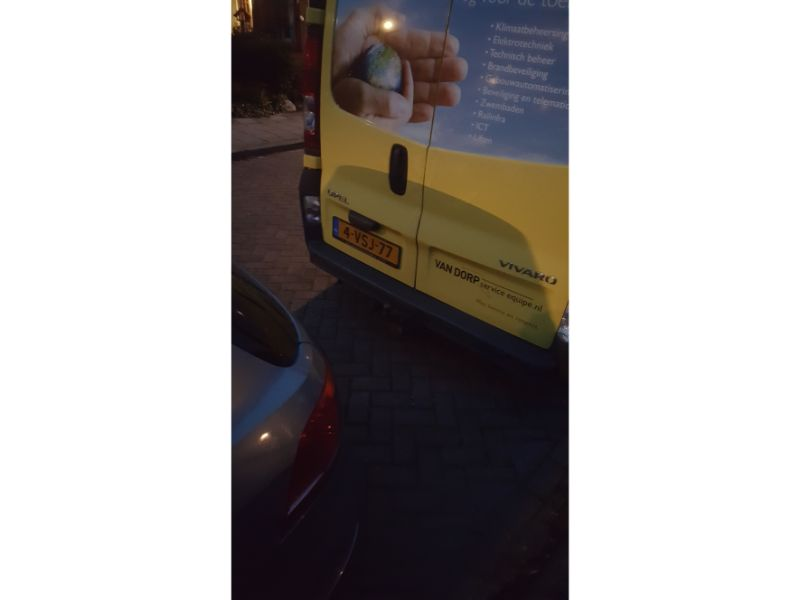kenteken: (324, 217, 407, 270)
